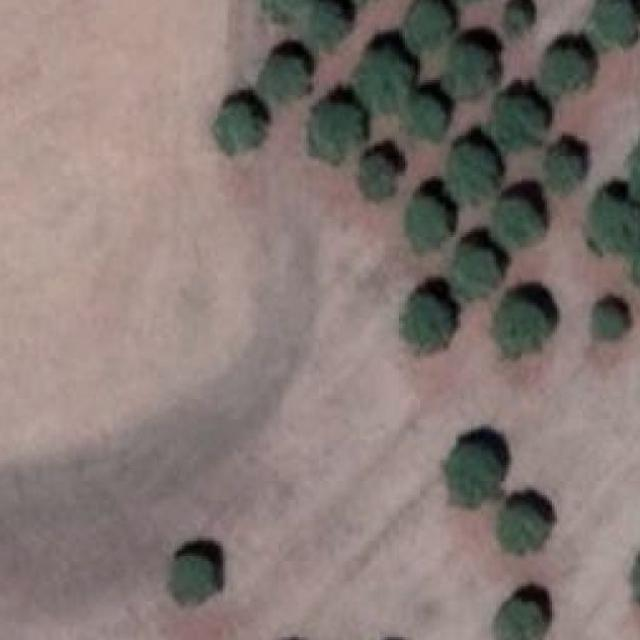Tree: (451, 439, 506, 508), (584, 192, 638, 252), (490, 296, 544, 356), (400, 293, 451, 351), (493, 95, 549, 146), (402, 0, 458, 51), (453, 140, 498, 202), (448, 40, 496, 98), (215, 90, 260, 149), (360, 50, 410, 103), (316, 97, 359, 156), (458, 245, 503, 299), (402, 88, 446, 142), (590, 0, 638, 47), (501, 505, 550, 551), (498, 197, 542, 247), (410, 191, 449, 247), (172, 556, 211, 610), (260, 55, 306, 100), (301, 0, 346, 45), (497, 598, 545, 640), (539, 48, 587, 88), (356, 156, 395, 201), (544, 146, 579, 194), (589, 303, 625, 341), (628, 136, 640, 214), (502, 0, 530, 32), (628, 546, 640, 606)
